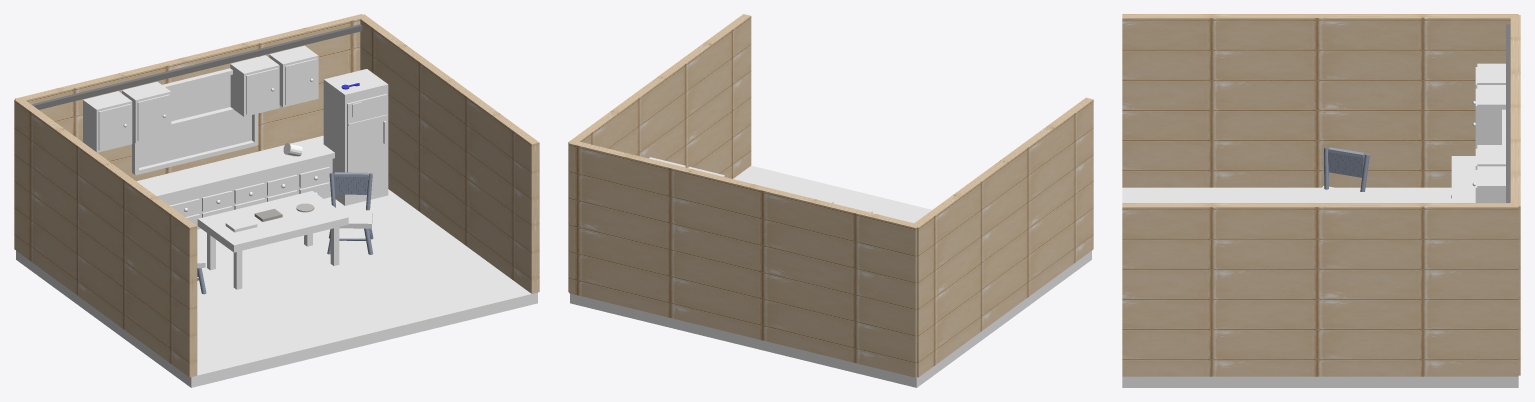
The model's file is Cocina.glb.
3 renders of one model, left to right at view 1: azimuth 30°, elevation 25°; view 2: azimuth 150°, elevation 25°; view 3: azimuth 270°, elevation 25°, orthographic. The views are drawn at different scales.
Parts seen in each view (by area): view 1: Piso, Pared izquierda, Pared derecha, Pared trasera, Ventana cristal, Tablero mesa, Cubierta trasera, Refrigerador, Puerta refrigerador, Moldura superior, Mueble bajo trasero, Gabinete superior (+15 smaller); view 2: Pared trasera, Pared izquierda, Pared derecha, Piso; view 3: Pared derecha, Pared izquierda, Piso, Pared trasera, Gabinete superior.001, Cubierta trasera, Gabinete superior.003, Moldura superior, Tablero mesa, Panel ancho del respaldo, Gabinete superior, Gabinete superior.002.
Boxes of the visible parts, left/top/right/bottom form: Piso: left=16, top=189, right=537, bottom=387; Pared izquierda: left=14, top=98, right=197, bottom=377; Pared derecha: left=358, top=14, right=539, bottom=293; Pared trasera: left=15, top=14, right=365, bottom=181; Ventana cristal: left=139, top=75, right=251, bottom=167; Tablero mesa: left=197, top=191, right=348, bottom=252; Cubierta trasera: left=136, top=135, right=334, bottom=200; Refrigerador: left=323, top=69, right=388, bottom=205; Puerta refrigerador: left=347, top=94, right=387, bottom=181; Moldura superior: left=31, top=24, right=362, bottom=109; Mueble bajo trasero: left=162, top=159, right=332, bottom=229; Gabinete superior: left=83, top=91, right=132, bottom=152; Pared trasera: left=569, top=140, right=919, bottom=377; Pared izquierda: left=914, top=97, right=1093, bottom=377; Pared derecha: left=568, top=14, right=751, bottom=291; Piso: left=570, top=165, right=1091, bottom=387; Pared derecha: left=1122, top=203, right=1518, bottom=376; Pared izquierda: left=1122, top=14, right=1518, bottom=187; Piso: left=1122, top=187, right=1518, bottom=387; Pared trasera: left=1510, top=15, right=1520, bottom=375; Gabinete superior.001: left=1477, top=85, right=1505, bottom=144; Cubierta trasera: left=1451, top=156, right=1475, bottom=202; Gabinete superior.003: left=1477, top=166, right=1505, bottom=202; Moldura superior: left=1506, top=24, right=1510, bottom=202; Tablero mesa: left=1287, top=192, right=1369, bottom=202; Panel ancho del respaldo: left=1328, top=150, right=1364, bottom=177; Gabinete superior: left=1477, top=63, right=1505, bottom=84; Gabinete superior.002: left=1477, top=145, right=1505, bottom=166.
Bounding box in the file's own units: 8.08 × 3.54 × 7.04.
17 materials, 1 textured.
